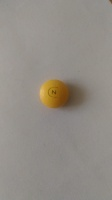Nurofen: (38, 78, 68, 109)
